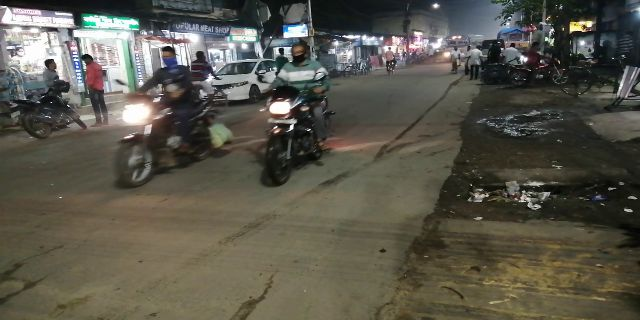Car: (204, 54, 278, 103)
Motorbike: (107, 38, 218, 192), (258, 40, 335, 190)
